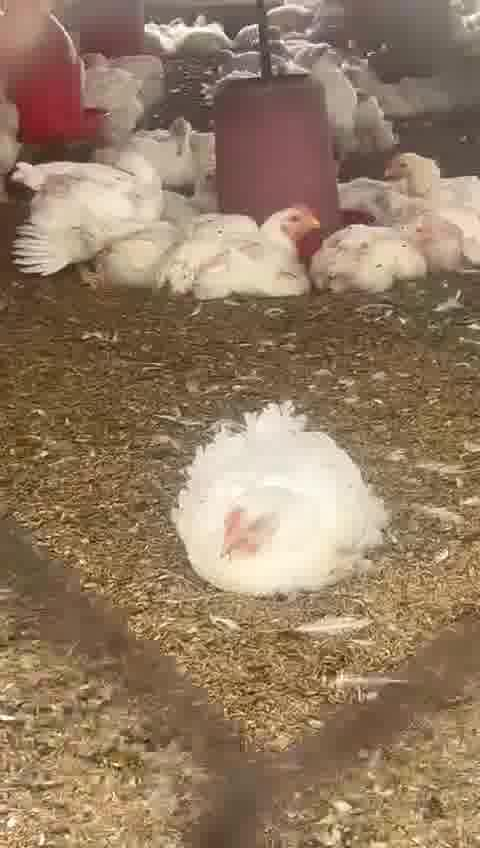AbNormal: (177, 407, 383, 587), (177, 202, 317, 302), (389, 144, 480, 260)
